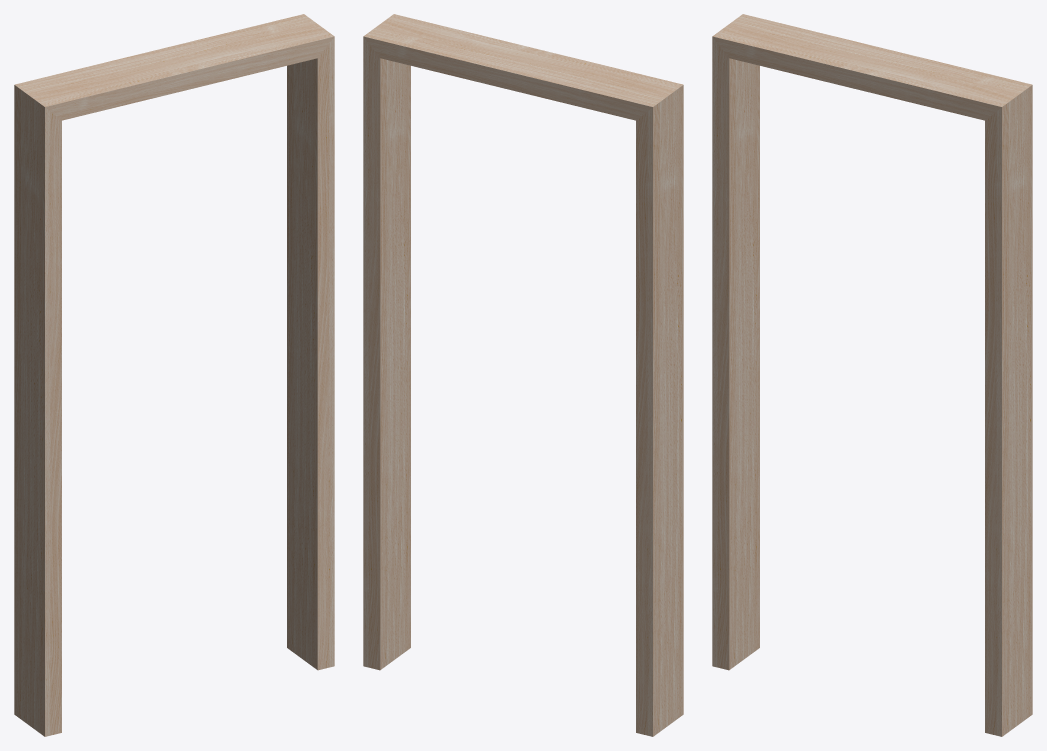
Rendered from porta-cornice-texture.glb.
The picture shows the model from 3 angles, left to right: view 1: azimuth 30°, elevation 25°; view 2: azimuth 150°, elevation 25°; view 3: azimuth 330°, elevation 25°; orthographic projection.
Visible parts, largest first — view 1: doorwayOpen(Clone); view 2: doorwayOpen(Clone); view 3: doorwayOpen(Clone).
Boxes of the visible parts, x1=… form: doorwayOpen(Clone): x1=14, y1=14, x2=334, y2=736; doorwayOpen(Clone): x1=363, y1=14, x2=683, y2=736; doorwayOpen(Clone): x1=712, y1=14, x2=1032, y2=736.
Bounding box in the file's own units: 0.486 × 1.01 × 0.0891.
Materials: 2 (1 with a texture image).
